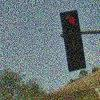traffic lights: (58, 8, 88, 72)
